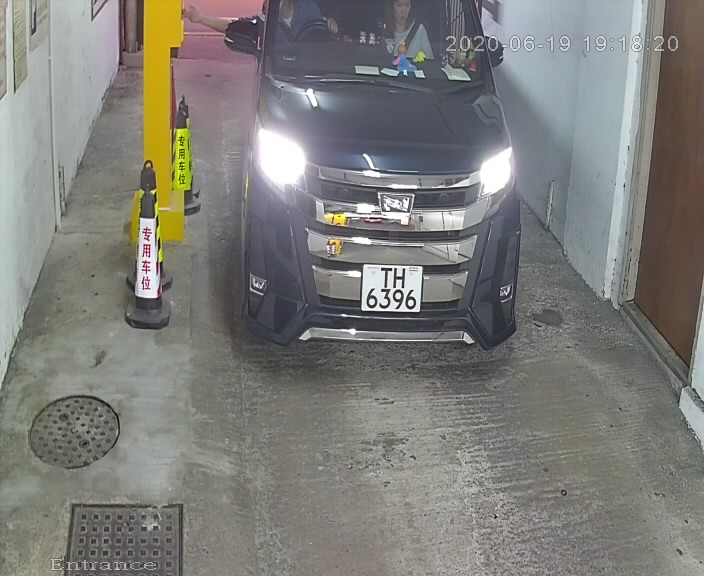privatecar: (217, 3, 545, 391)
